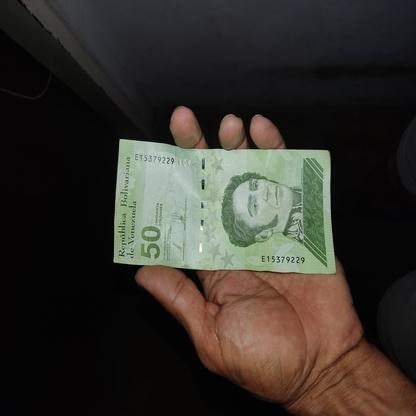vef_front: (113, 139, 337, 274)
